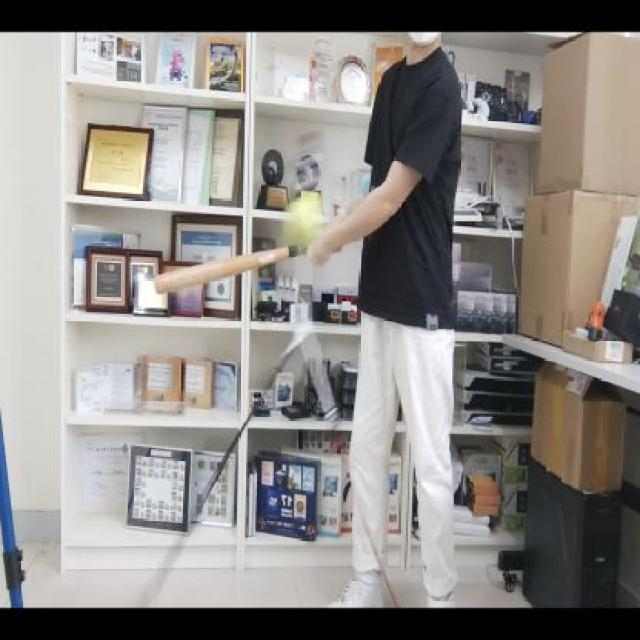baseball: (282, 191, 330, 249)
